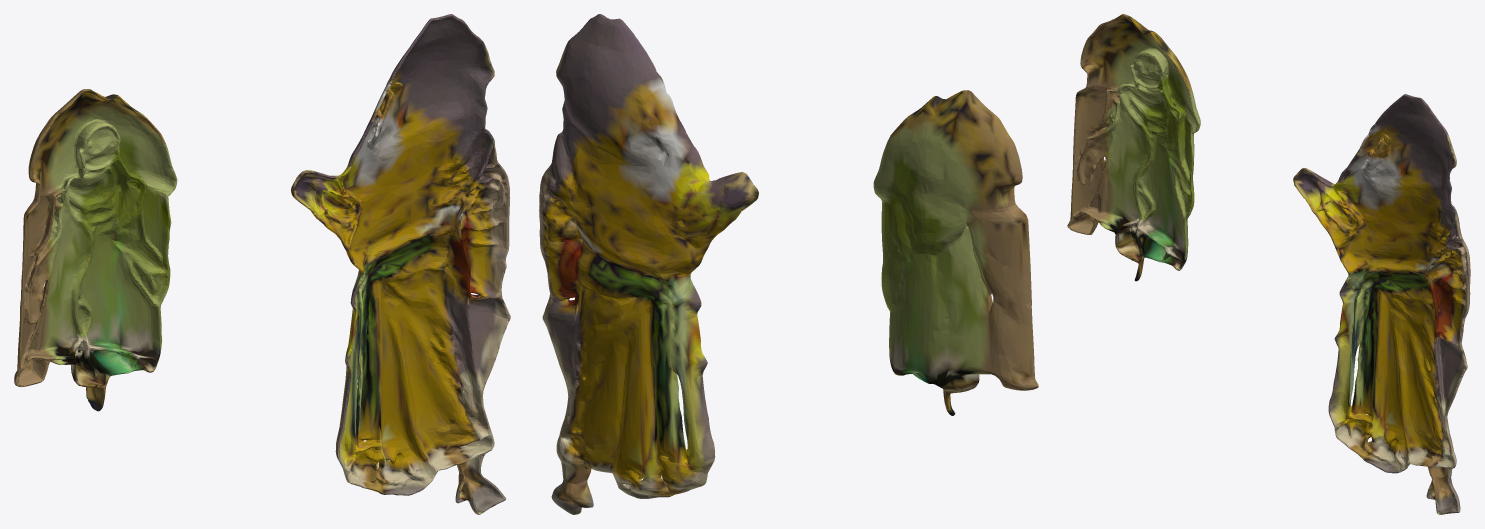
The model's file is whiteTiger.glb.
3 views of the same model, side by side, from view 1: azimuth 30°, elevation 25°; view 2: azimuth 150°, elevation 25°; view 3: azimuth 330°, elevation 25° (orthographic). The views are drawn at different scales.
Visible parts, largest first — view 1: world; view 2: world; view 3: world.
Part boxes in pixels (x1,y1,x2,y2): world: (14, 14, 510, 514); world: (539, 14, 1038, 514); world: (1067, 14, 1470, 514).
Size of the model in its own units: 0.999 by 1 by 0.0799.
